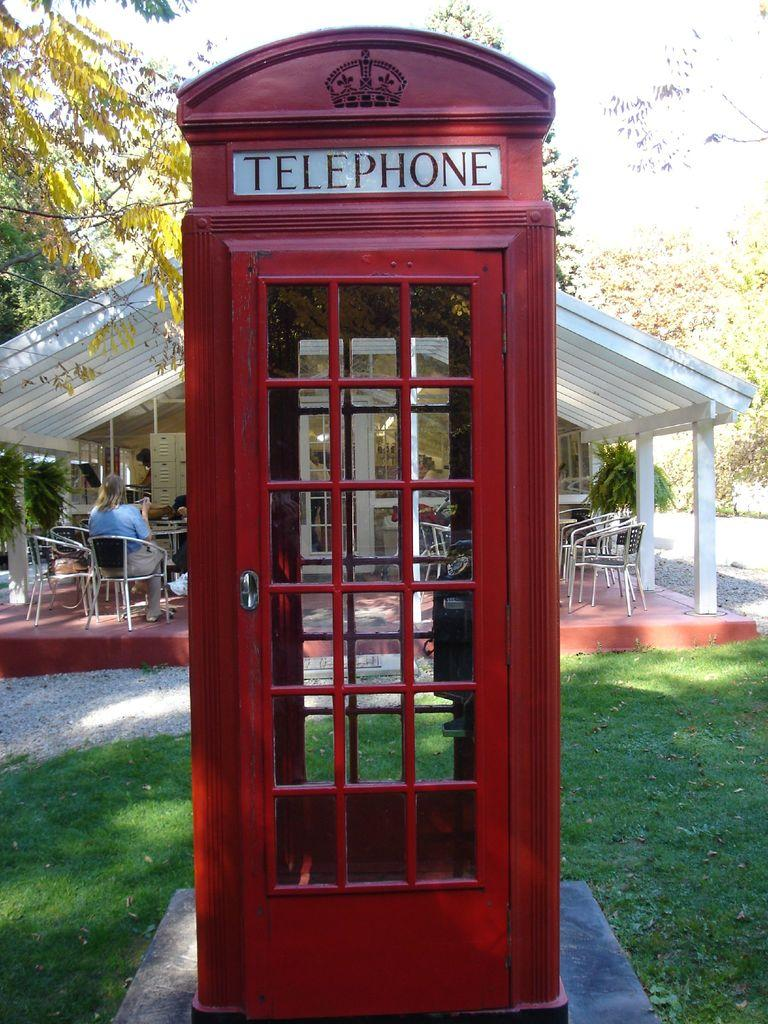handle: (232, 564, 259, 614)
